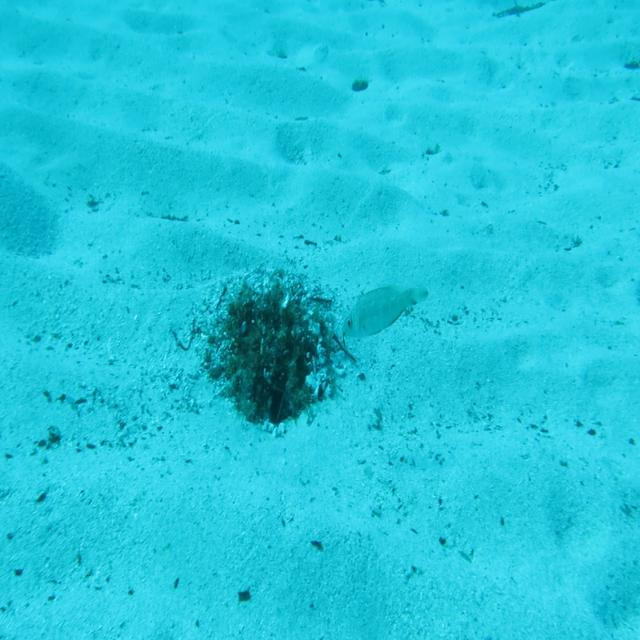AM: (341, 282, 430, 342)
nest: (190, 256, 351, 444)
vegetation: (341, 314, 350, 362)
